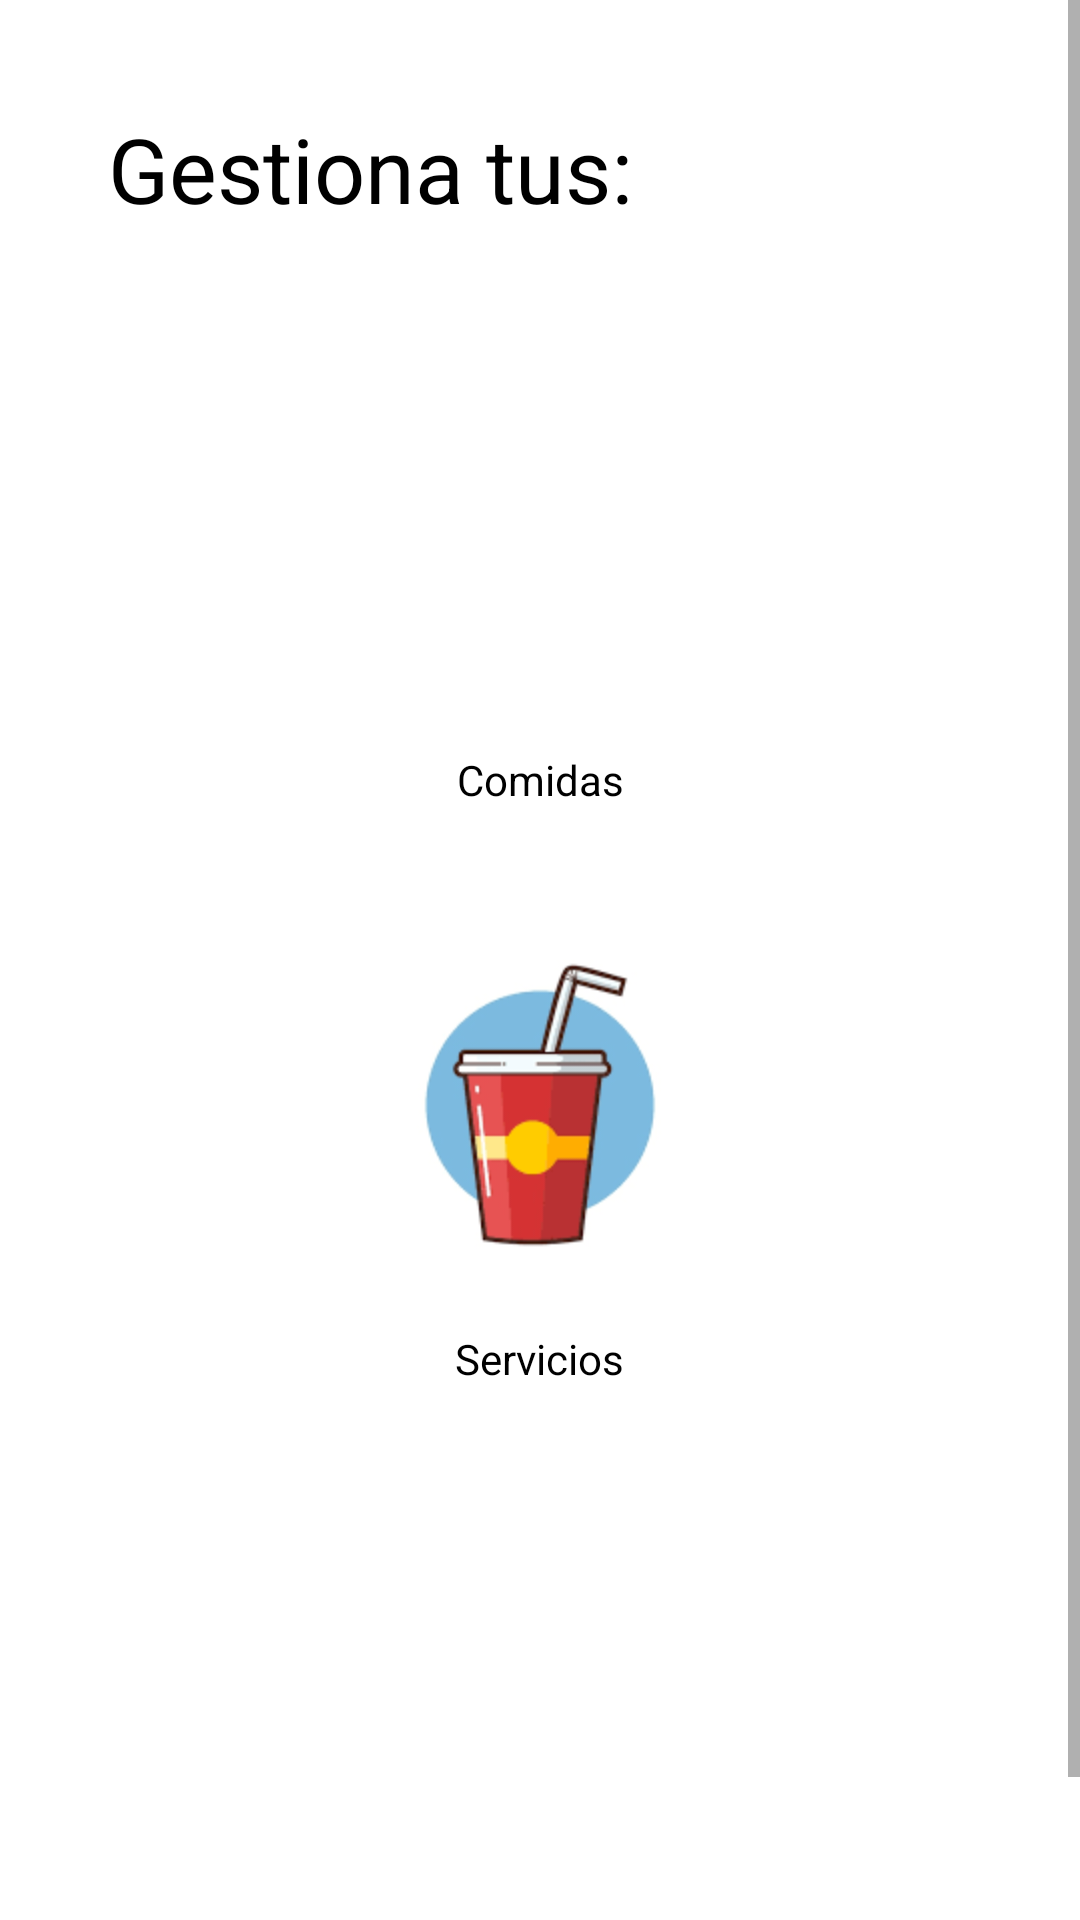

Locate icon controls on the screen. Image size 1080×1920, boxes as (x1, y1, x2, y2).
refresco: (425, 964, 655, 1246)
